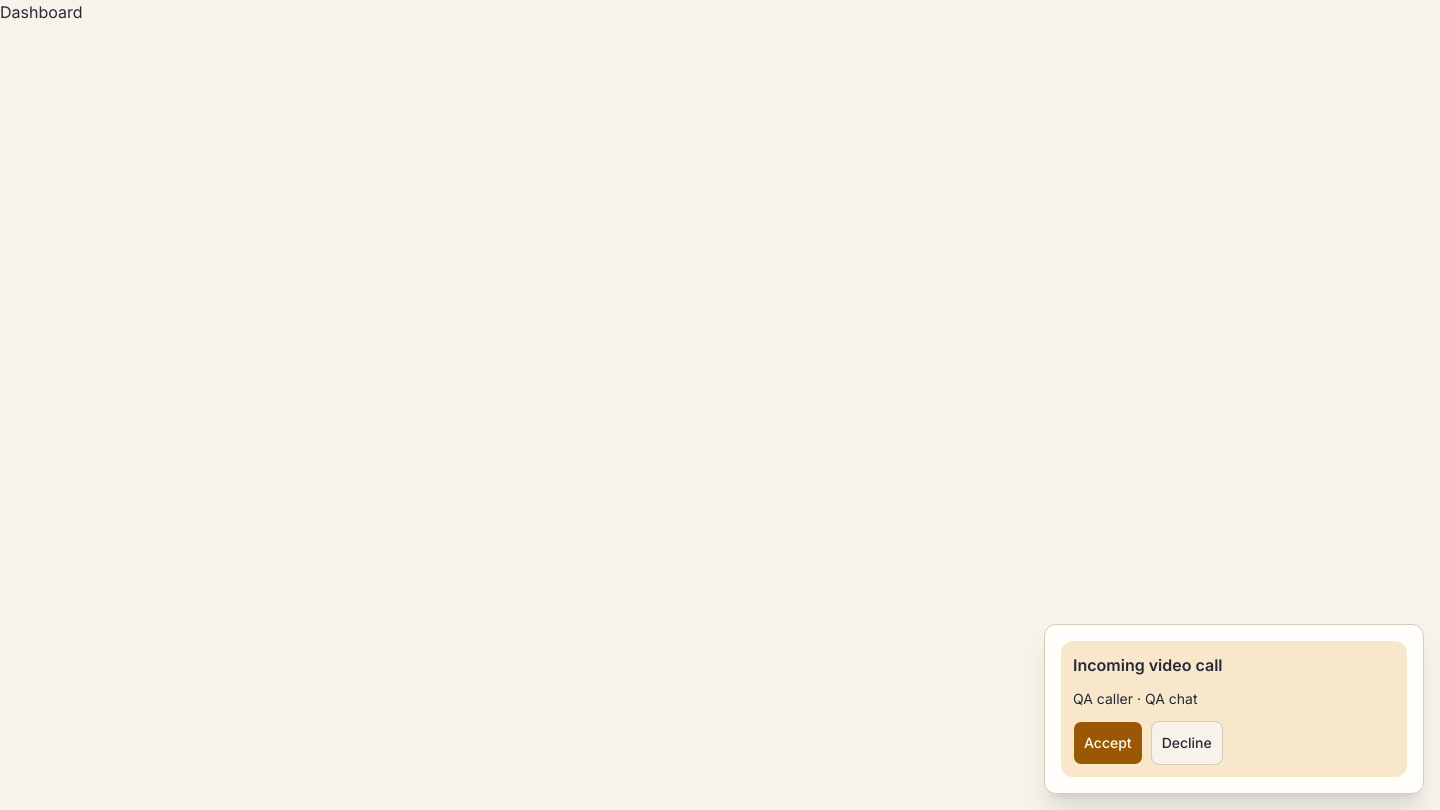
requires preview before accepting an incoming video call
Expected: the text "Incoming video call" is shown, [1073,655,1222,675]
What coordinates should you click on to do the following:
click the button "Accept"
I would click on:
 (1108, 743)
Its box is [1073,721,1143,765].
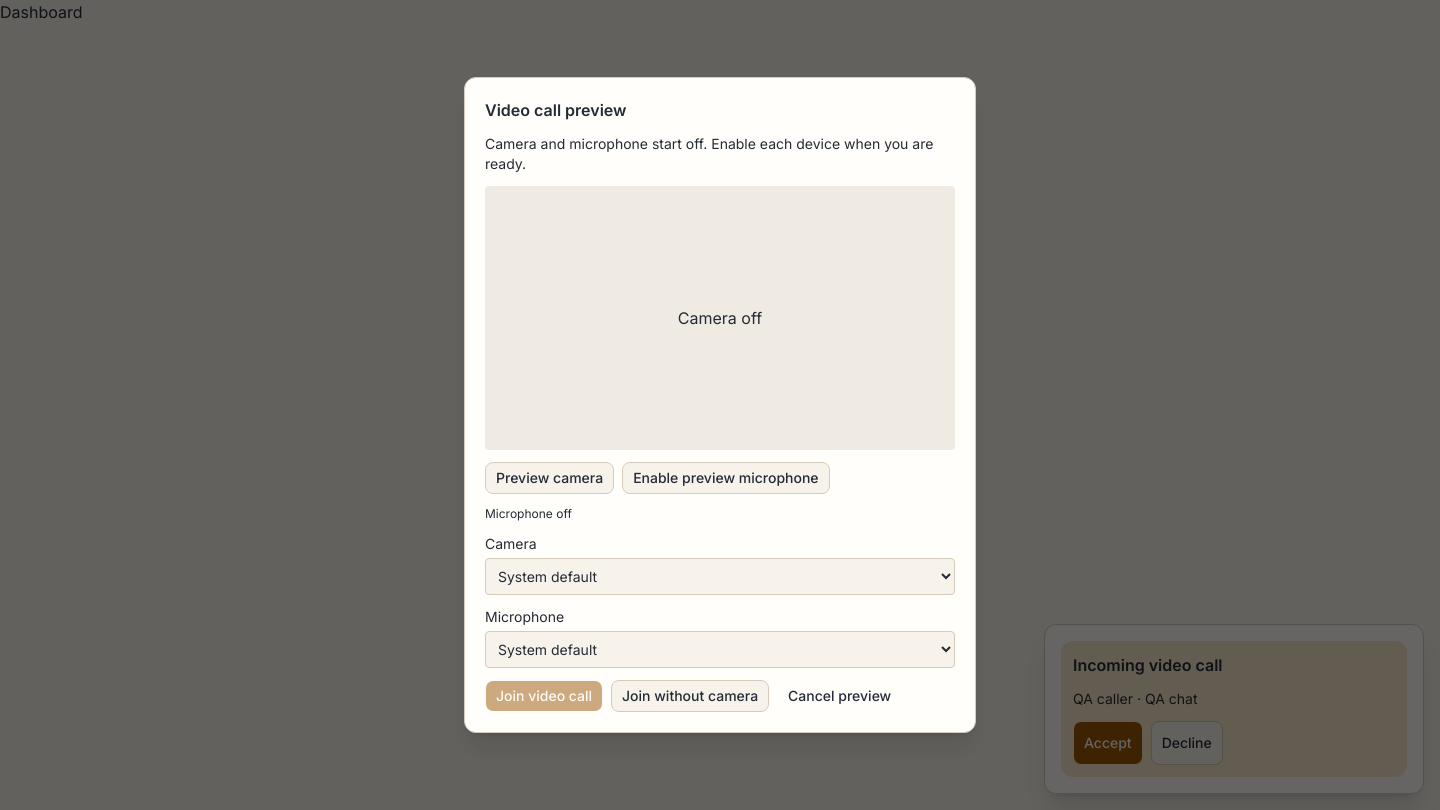
Now the dialog "Video call preview" is shown
